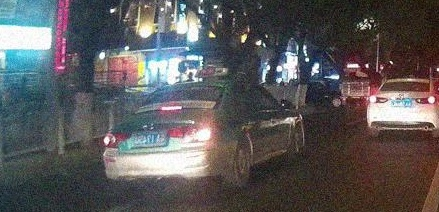L_light: (104, 131, 131, 147), (369, 96, 389, 103)
R_light: (170, 125, 214, 141), (416, 96, 436, 104)
T_light: (161, 105, 183, 110), (402, 81, 411, 83)
night-no: (366, 77, 439, 136)
night-right: (102, 80, 229, 189)
